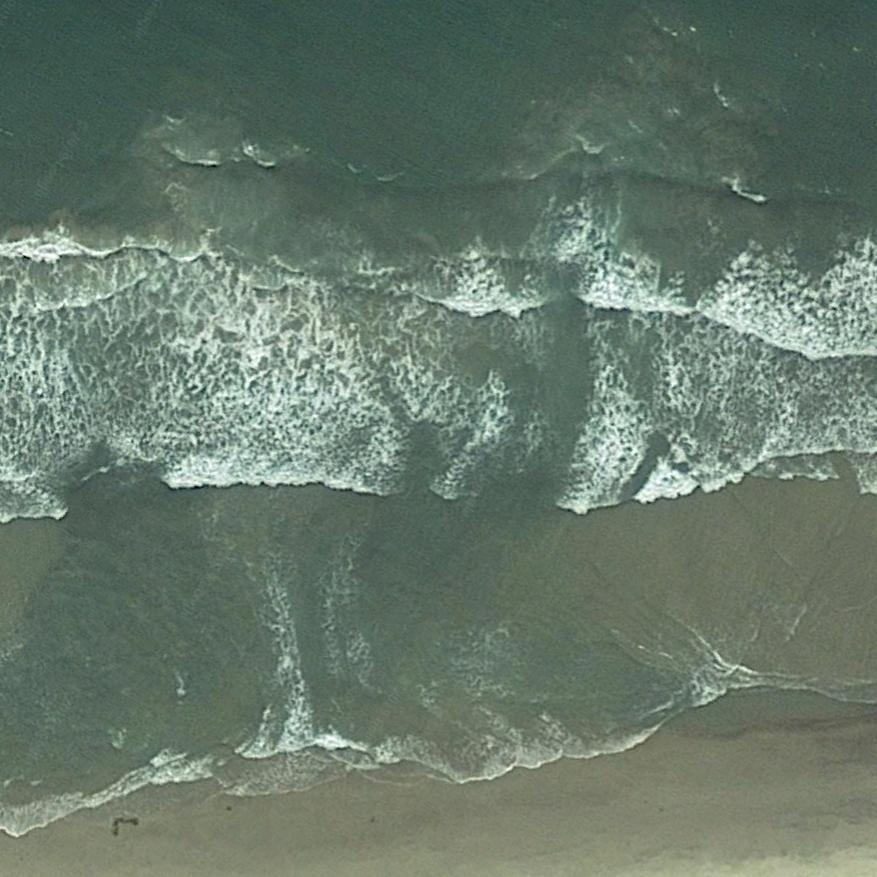rip_current: (287, 198, 602, 720)
